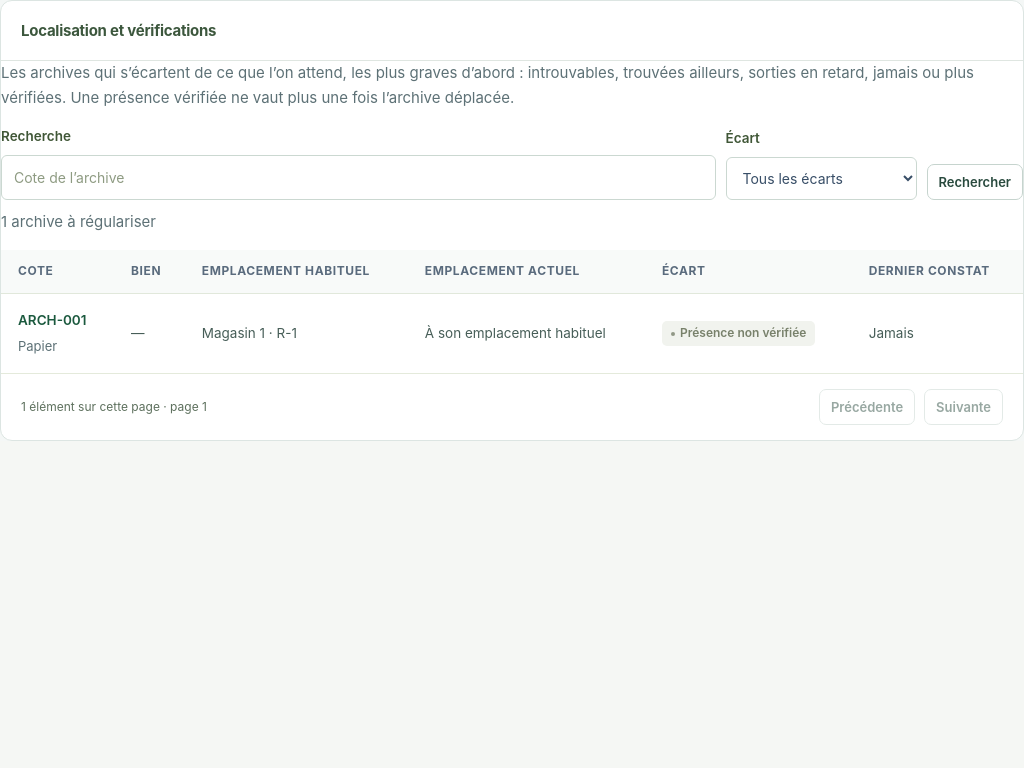
Test case: ouvrir une archive de la liste montre son emplacement et permet de vérifier sa présence
Click the button "ARCH-001". click: (52, 320)
box: [18,310,86,331]
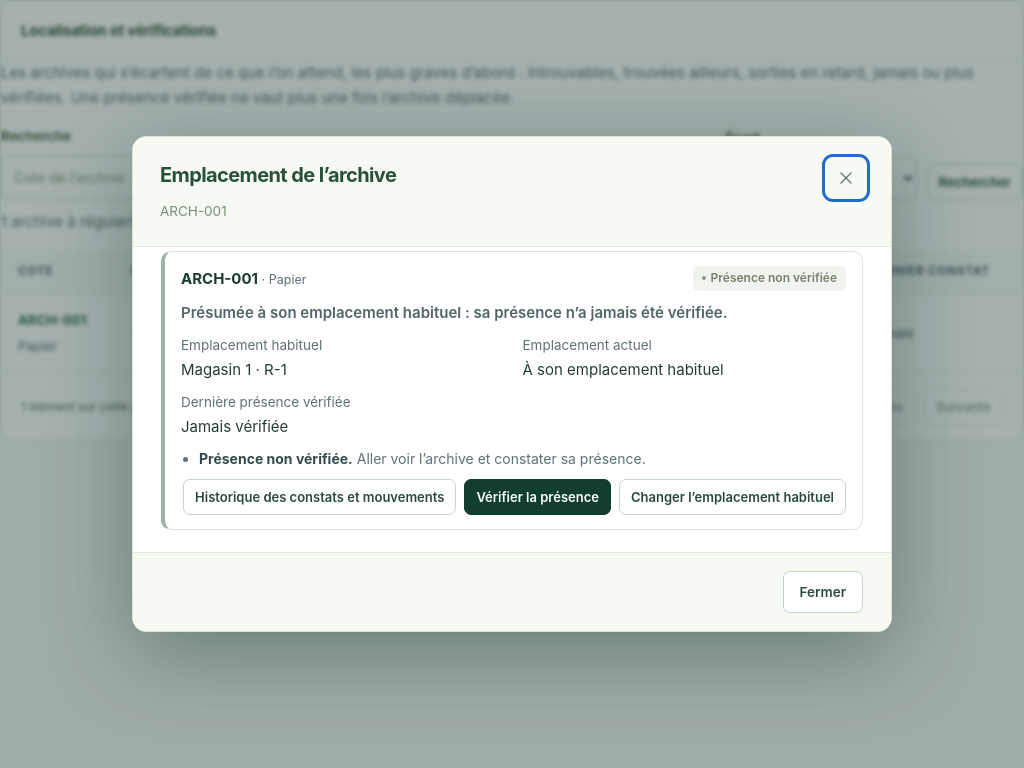
Result: the text "Présumée à son emplacement habituel : sa présence n’a jamais été vérifiée" is shown at [181,303,728,322]
Result: the text "Jamais vérifiée" is shown at [181,416,288,436]
Result: the button "Vérifier la présence" is shown at [464,479,611,515]
